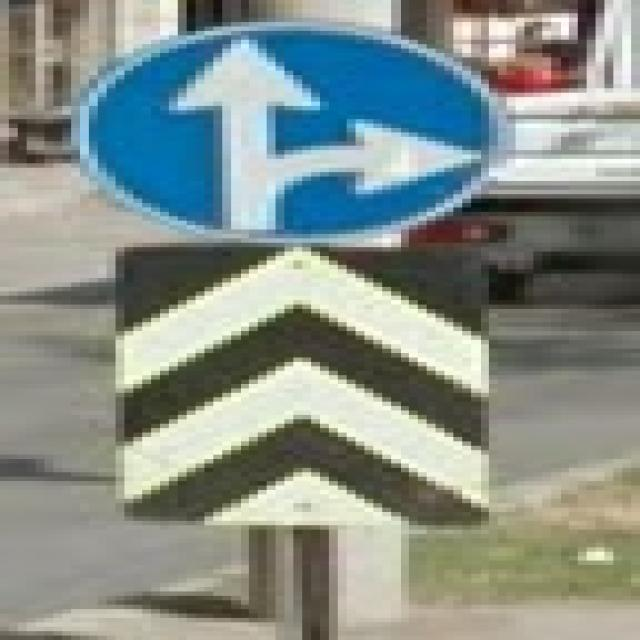Straight or Right: (104, 25, 486, 246)
